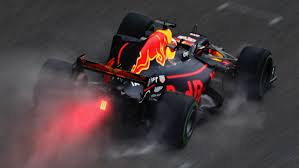f1_car: (32, 8, 281, 154)
